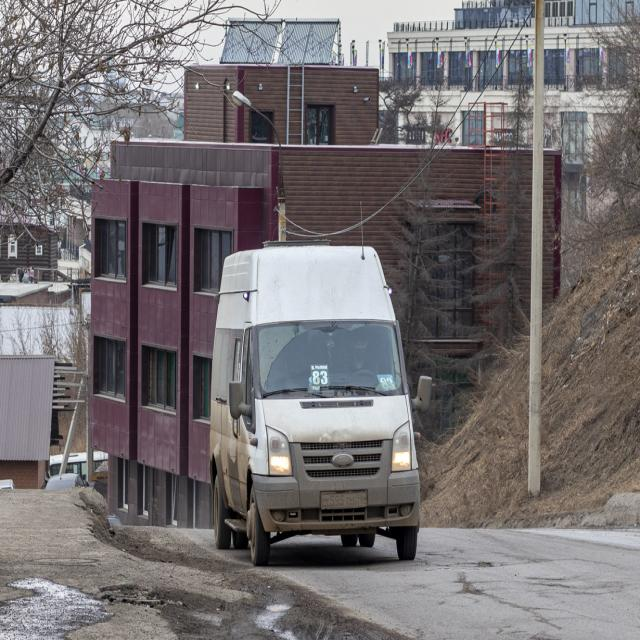number-of-bus: (313, 371, 330, 387), (382, 376, 397, 394)
